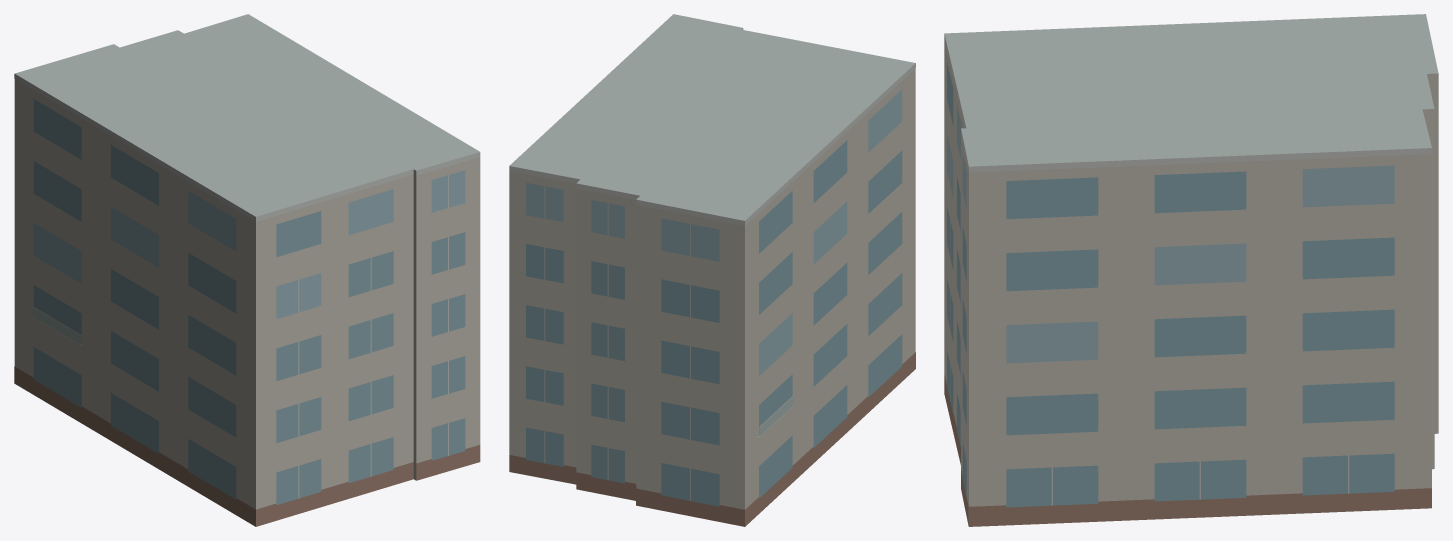
File: survey-upis-32671326.glb
The picture shows the model from 3 angles, left to right: view 1: azimuth 30°, elevation 25°; view 2: azimuth 150°, elevation 25°; view 3: azimuth 270°, elevation 25°; orthographic projection. The views are drawn at different scales.
Parts seen in each view (by area): view 1: survey-upis-32671326.tmp; view 2: survey-upis-32671326.tmp; view 3: survey-upis-32671326.tmp.
Boxes of the visible parts, box(x1,y1,x2,y2) form: survey-upis-32671326.tmp: box(14, 14, 480, 526); survey-upis-32671326.tmp: box(509, 14, 915, 526); survey-upis-32671326.tmp: box(944, 14, 1438, 526).
Size of the model in its own units: 13.46 by 14.8 by 18.41.
